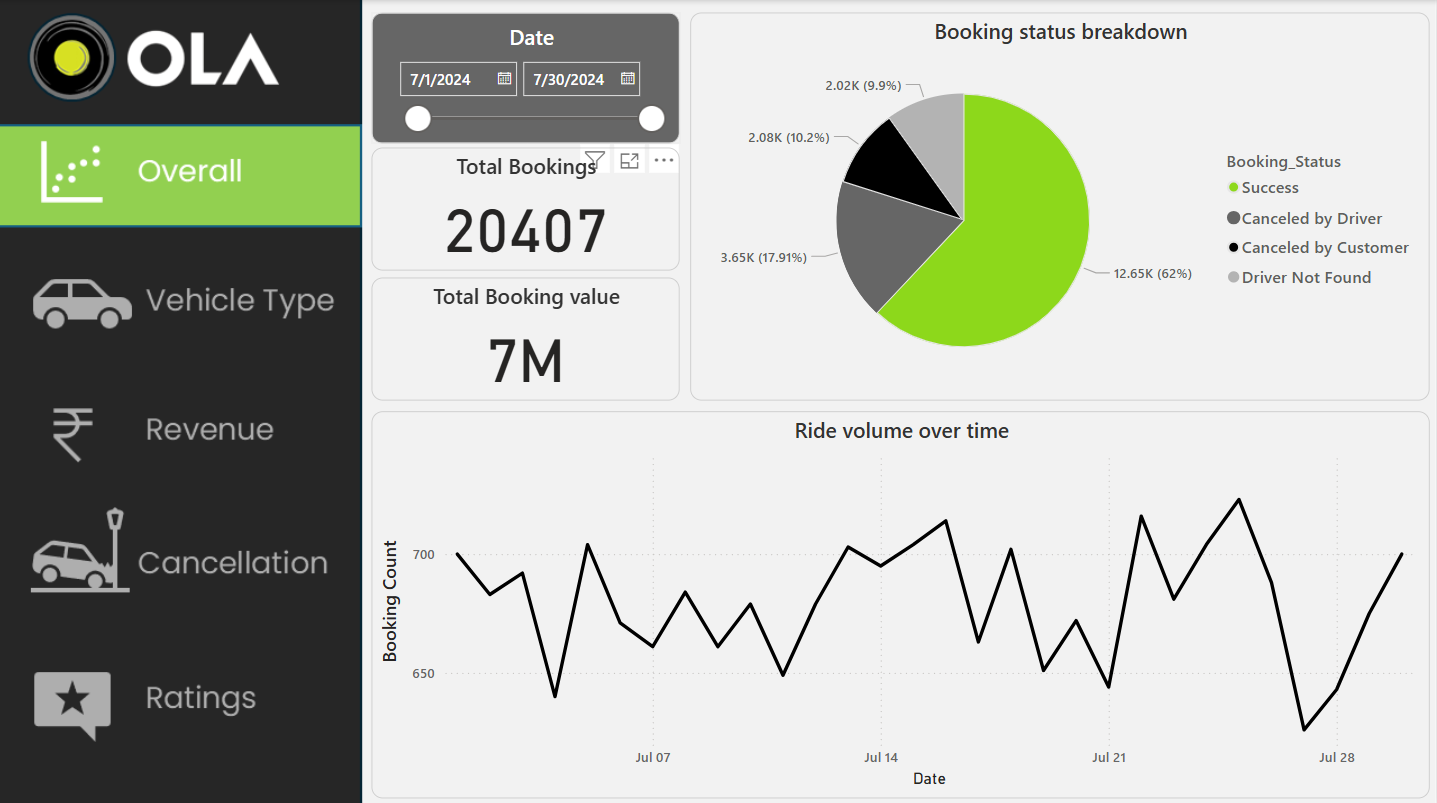

Layout of this report page (visuals, bound fields, positions):
{"tool":"powerbi","page":{"name":"Overall","canvas":[1280,720],"ordinal":0},"visuals":[{"type":"actionButton","box":[0,220.8,324.5,90.5],"z":0},{"type":"actionButton","box":[0,340.2,324.5,90.5],"z":1000},{"type":"actionButton","box":[0,447.6,324.5,90.5],"z":2000},{"type":"actionButton","box":[0,579.1,324.5,90.5],"z":3000},{"type":"lineChart","title":"Ride volume over time","fields":{"Category":["Ola_bookings.Date"],"Y":["CountNonNull(Ola_bookings.Booking_ID)"]},"box":[332.1,366.4,942.7,344.4],"z":4000},{"type":"pieChart","title":"Booking status breakdown","fields":{"Y":["CountNonNull(Ola_bookings.Booking_Status)"],"Category":["Ola_bookings.Booking_Status"]},"box":[616.1,11,658.7,345.8],"z":5000},{"type":"slicer","title":"Date","fields":{"Values":["Ola_bookings.Date"]},"box":[332.1,11,274.4,116.6],"z":6000},{"type":"card","title":"Total Bookings","fields":{"Values":["CountNonNull(Ola_bookings.Booking_ID)"]},"box":[332.1,131.7,274.4,109.8],"z":7000},{"type":"card","title":"Total Booking value","fields":{"Values":["Sum(Ola_bookings.Booking_Value)"]},"box":[332.1,247,274.4,109.8],"z":8000}]}

Visuals, with their boxes in screenshot pixels (x1, y1, x2, y2), scaled from the page's 1280x720 canvas onto the 1437x803 screenshot:
actionButton: box(0, 246, 364, 347)
actionButton: box(0, 379, 364, 480)
actionButton: box(0, 499, 364, 600)
actionButton: box(0, 646, 364, 747)
"Ride volume over time" lineChart: box(373, 409, 1431, 793)
"Booking status breakdown" pieChart: box(692, 12, 1431, 398)
"Date" slicer: box(373, 12, 681, 142)
"Total Bookings" card: box(373, 147, 681, 269)
"Total Booking value" card: box(373, 275, 681, 398)
